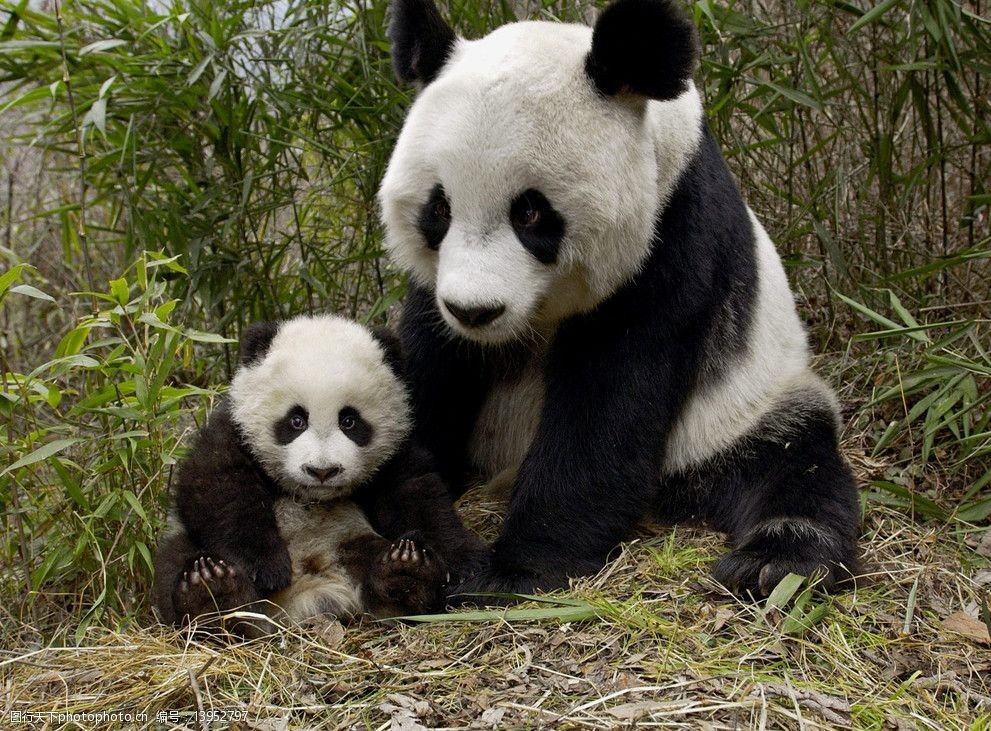panda: (361, 5, 873, 596), (160, 300, 474, 619)
